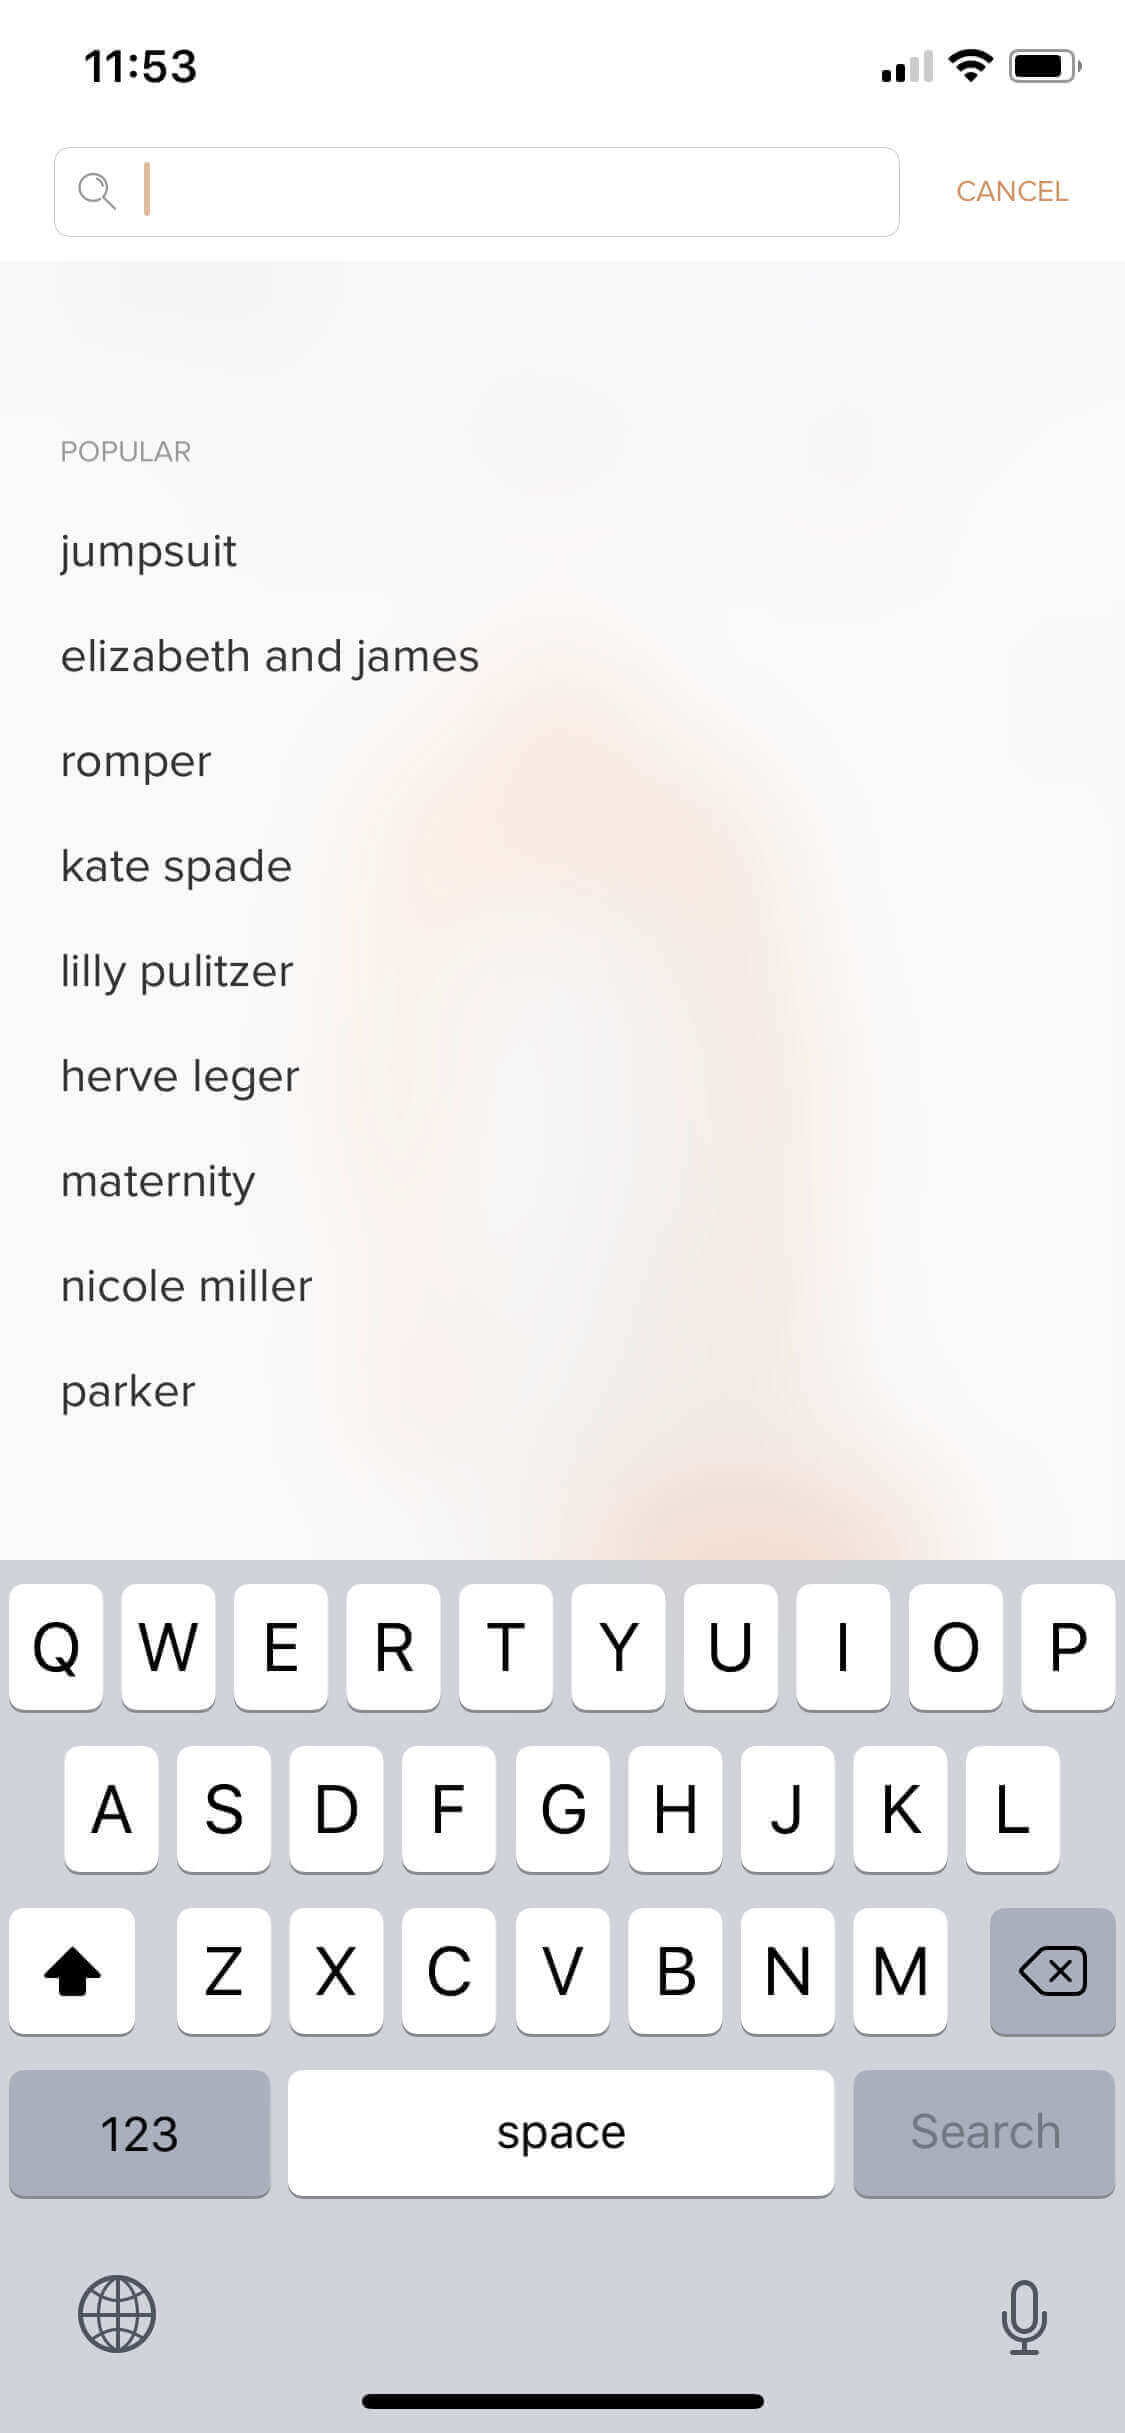Buttons: (933, 141, 1089, 244)
